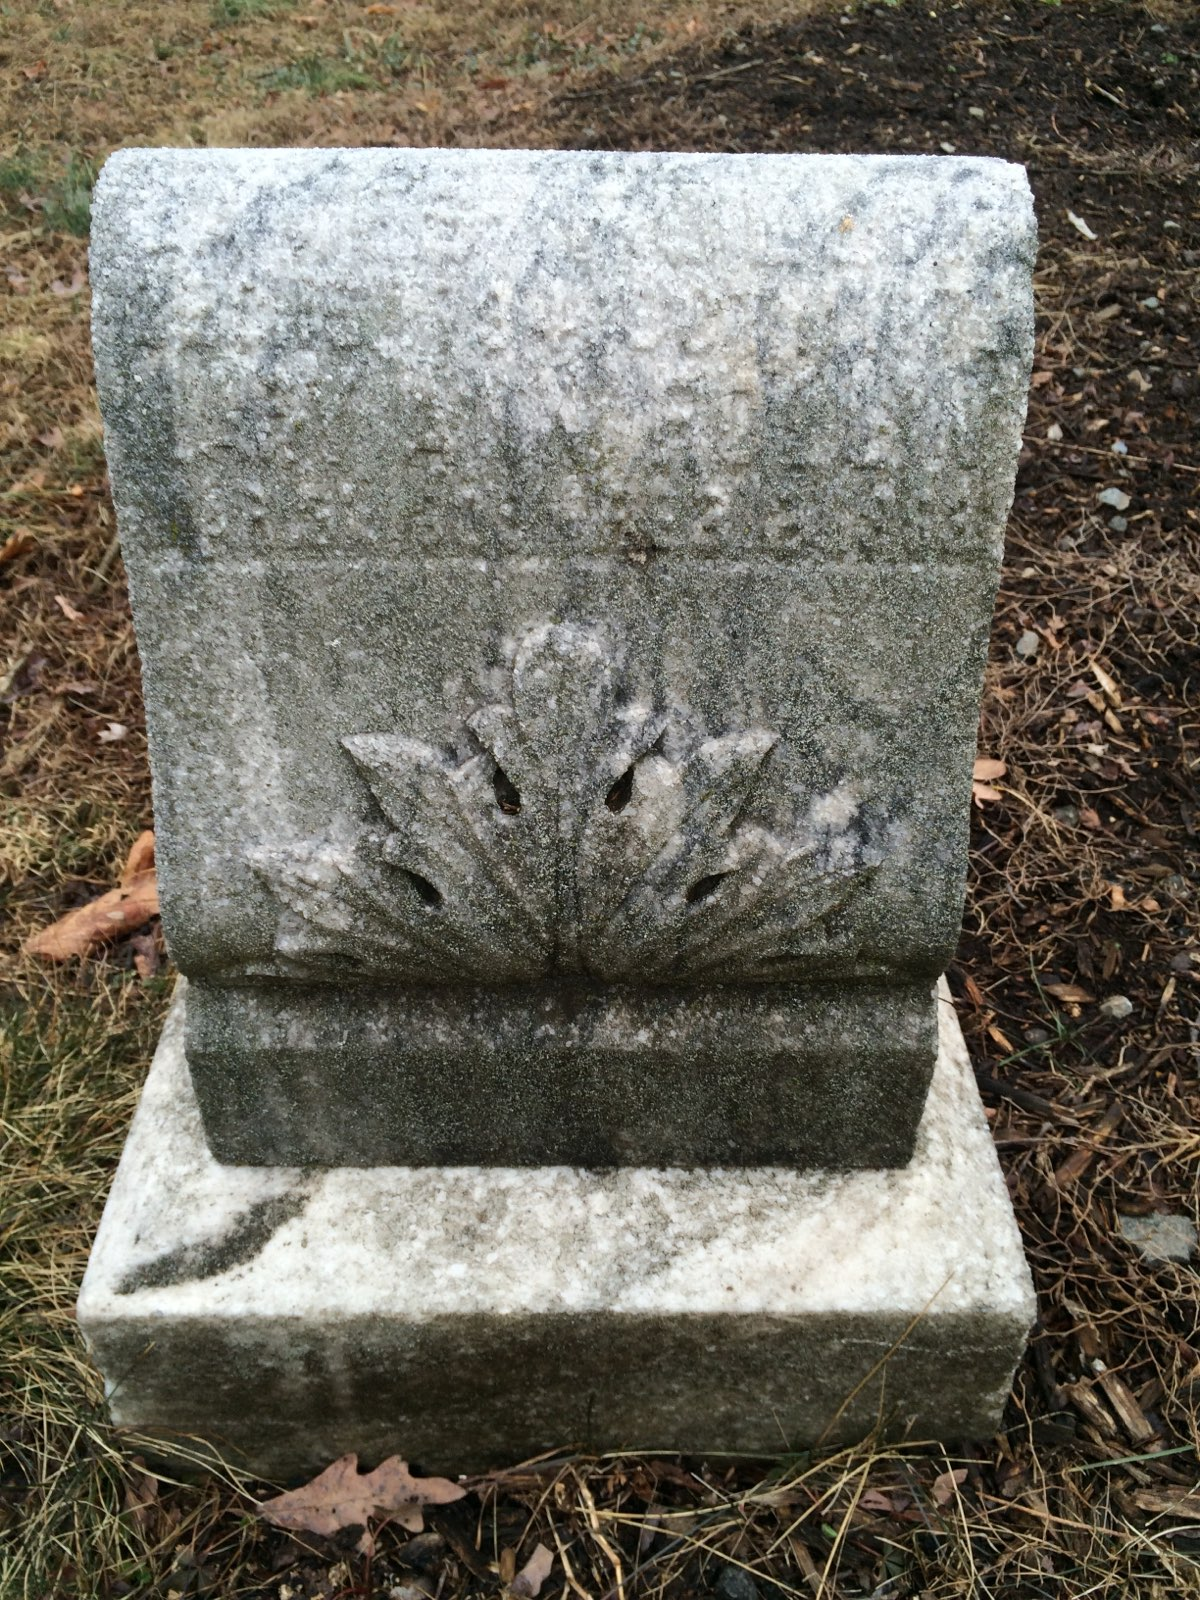upright: (73, 144, 1040, 1469)
